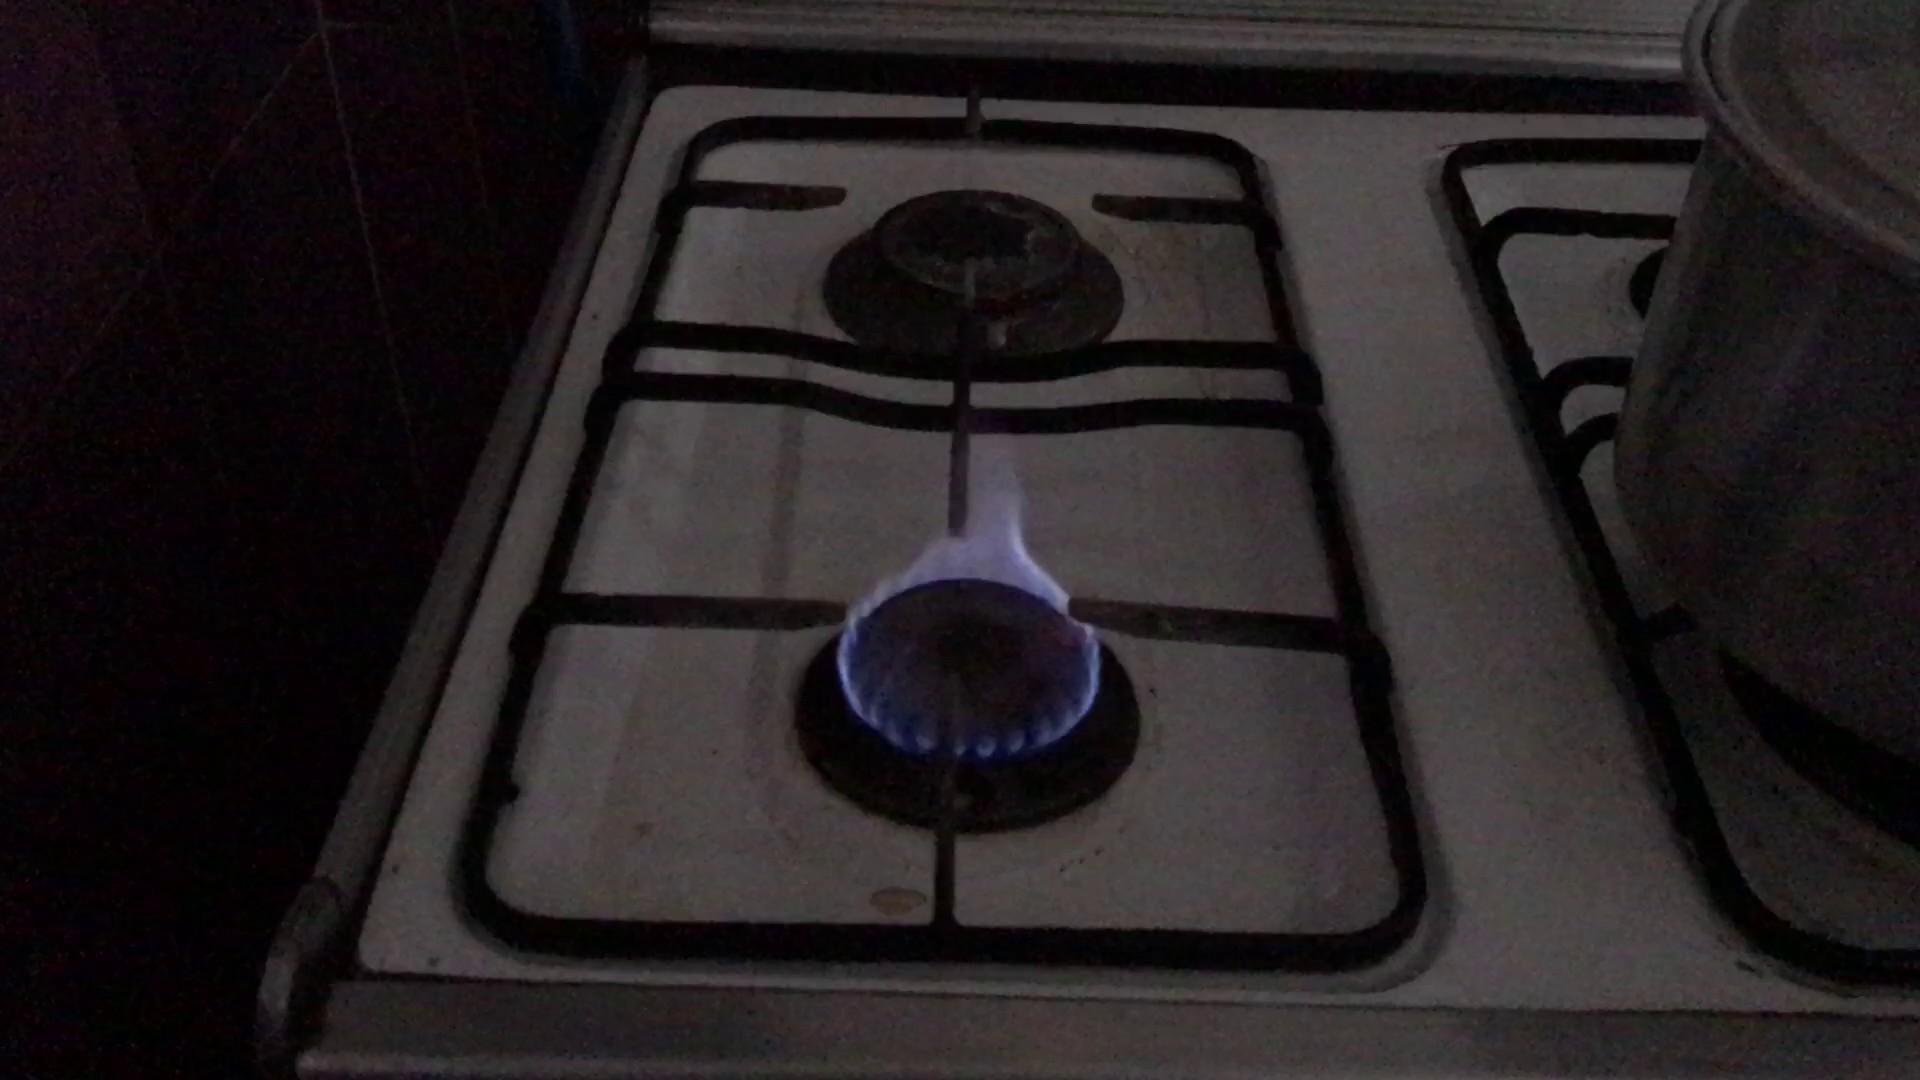fire: (802, 446, 1142, 775)
